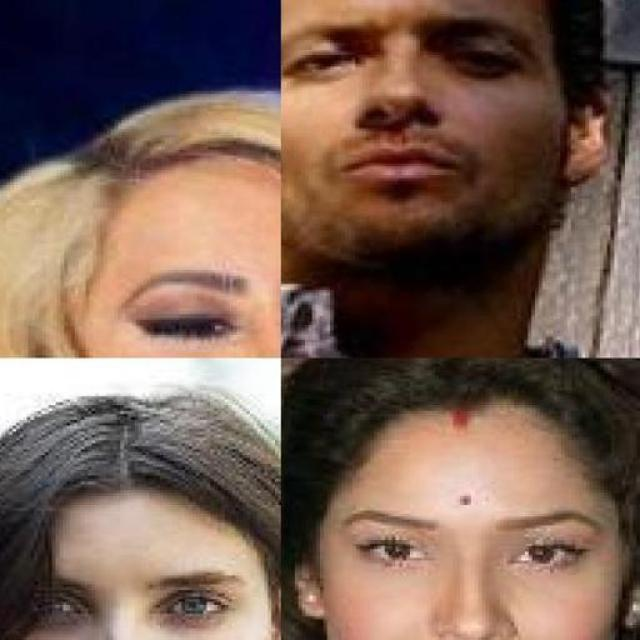bareface: (292, 0, 604, 261)
